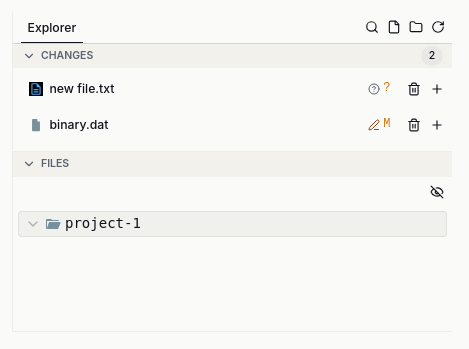
Test: ContextWorkbench › loads untracked diffs from GitService and renders explicit unavailable reasons
The image size is (469, 349).
Click the button "new file.txt ?" at {"x": 82, "y": 89}, box [18,71,401,107]
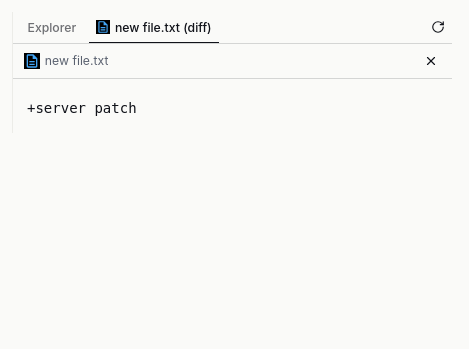
expect the text "+server patch" is shown: met, box [13,84,452,133]
Click the tab "Explorer" at {"x": 52, "y": 27}, box [20,15,84,40]
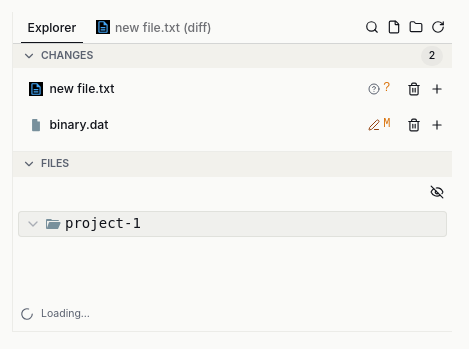
Click the button "binary.dat M" at {"x": 79, "y": 125}, box [18,107,401,143]
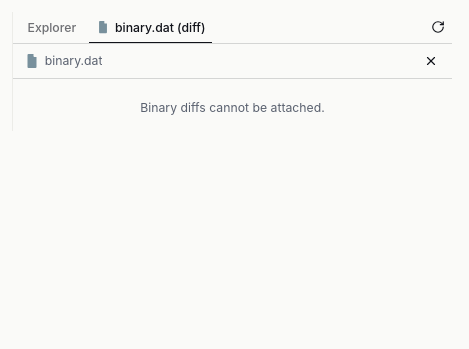
expect the text "Binary diffs cannot be attached." is shown: met, box [140,100,325,114]
